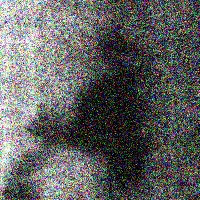patches: (70, 63, 142, 185), (11, 104, 63, 176)
